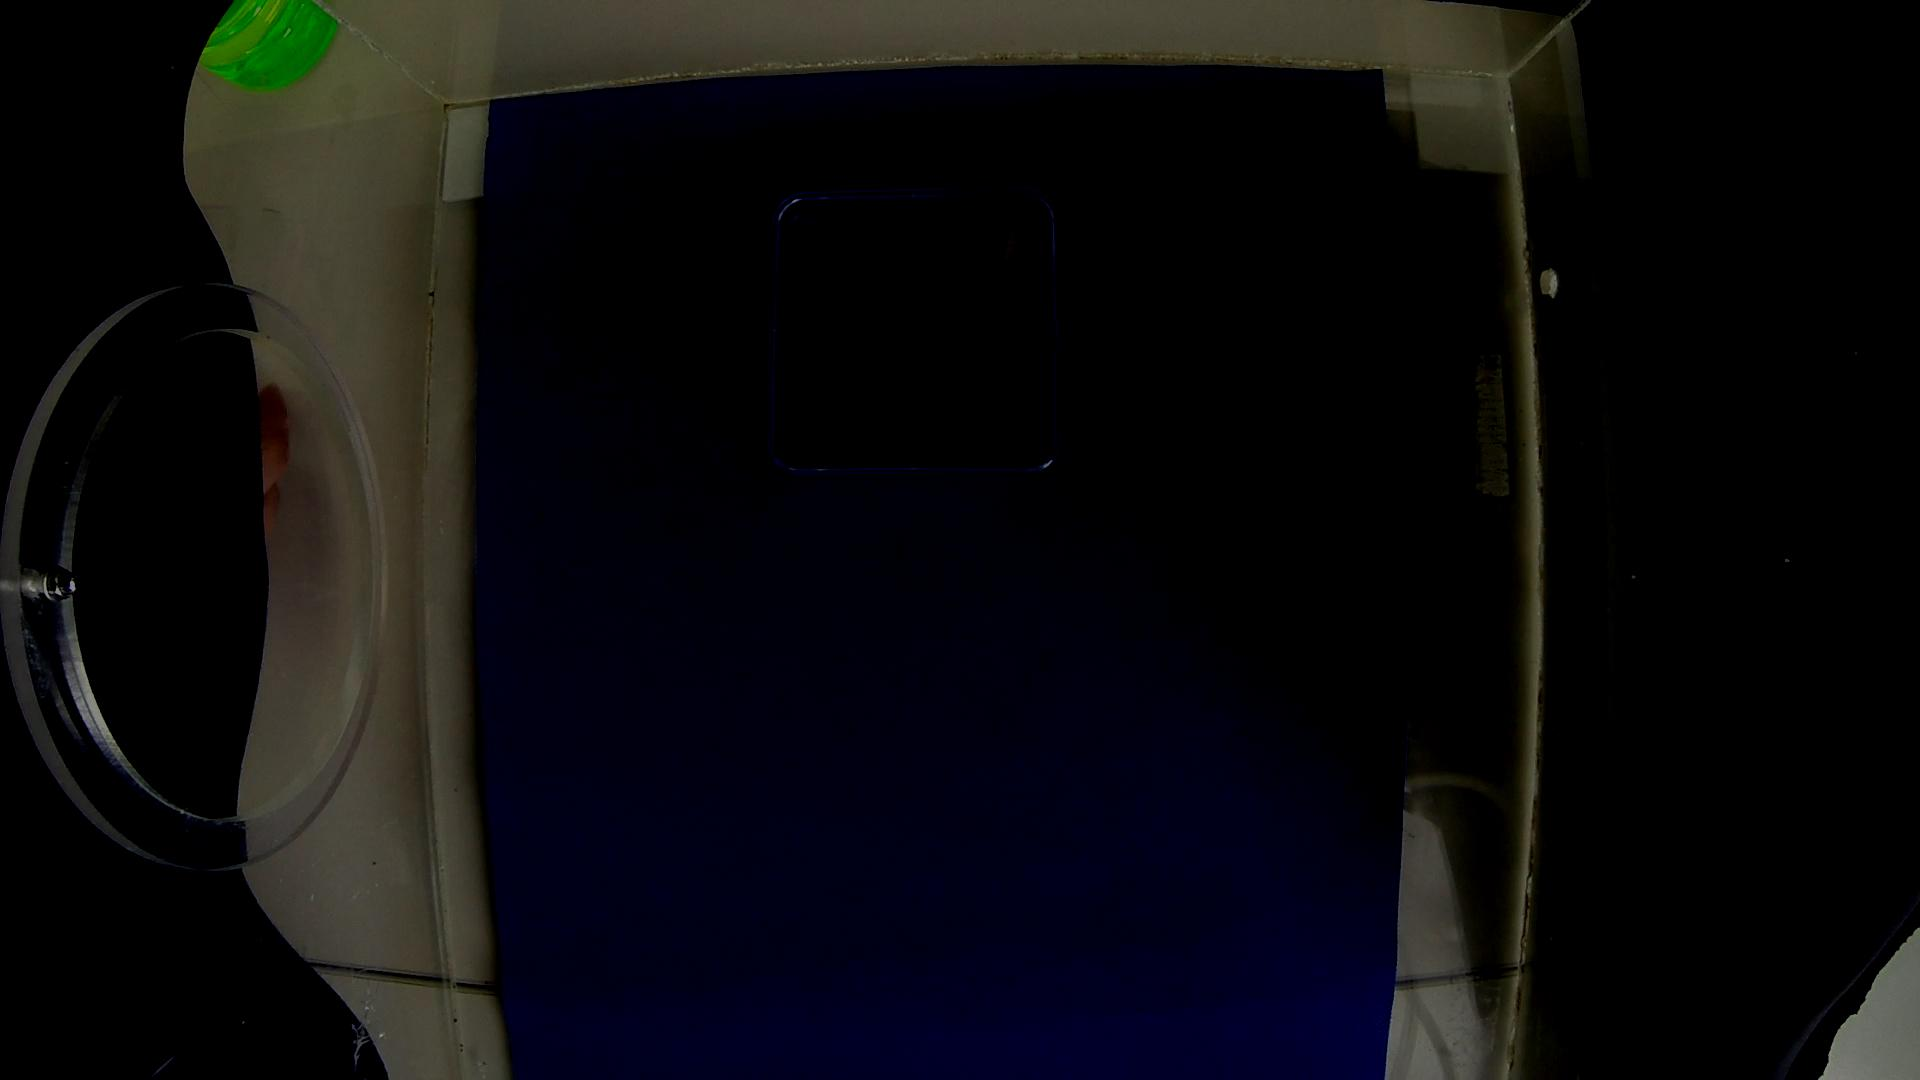larva: (964, 200, 1030, 272)
